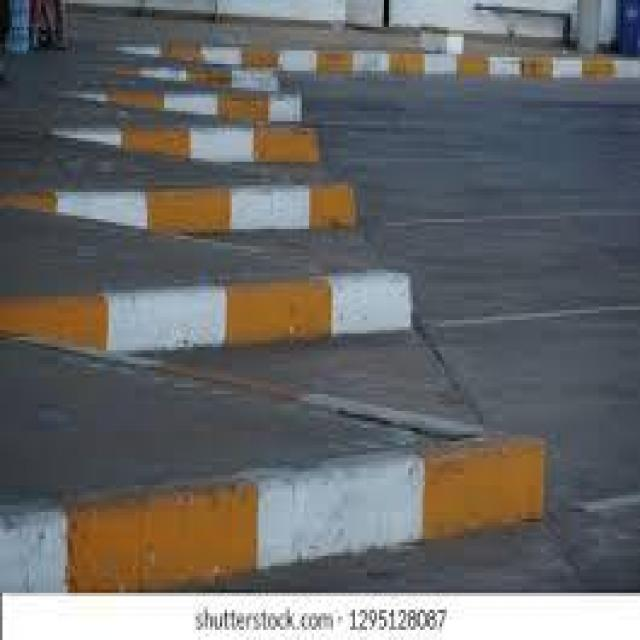curb: (55, 434, 548, 600), (20, 269, 418, 366), (188, 38, 640, 81), (90, 191, 354, 234), (180, 64, 313, 119), (188, 133, 318, 165)
